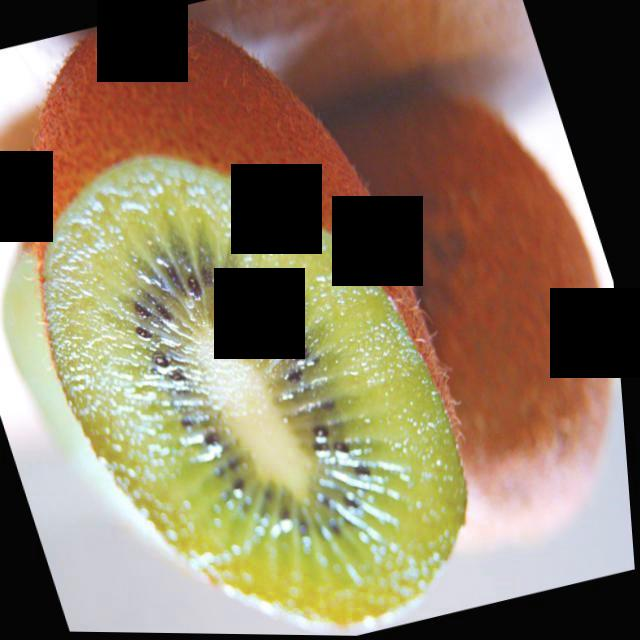kiwi: (324, 51, 636, 552)
